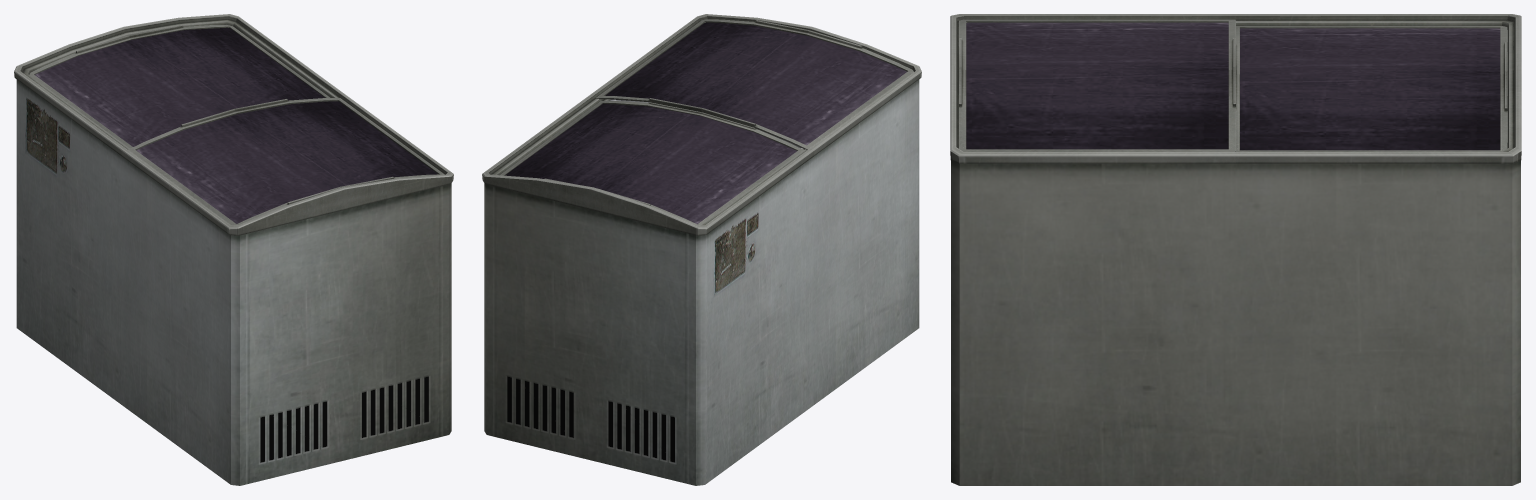
3 views of the same model, side by side, from view 1: azimuth 30°, elevation 25°; view 2: azimuth 150°, elevation 25°; view 3: azimuth 270°, elevation 25° (orthographic). The views are drawn at different scales.
Parts seen in each view (by area): view 1: S_FreezerB_0_001, S_FreezerBGlas01_0_001, S_FreezerBGlas02_0_001, S_FreezerBSlid01_0_001, S_FreezerBSlid02_0_001; view 2: S_FreezerB_0_001, S_FreezerBGlas01_0_001, S_FreezerBGlas02_0_001, S_FreezerBSlid01_0_001, S_FreezerBSlid02_0_001; view 3: S_FreezerB_0_001, S_FreezerBGlas01_0_001, S_FreezerBGlas02_0_001, S_FreezerBSlid01_0_001, S_FreezerBSlid02_0_001.
Part boxes in pixels (x1=…): S_FreezerB_0_001: x1=14, y1=14, x2=453, y2=485; S_FreezerBGlas01_0_001: x1=136, y1=101, x2=437, y2=223; S_FreezerBGlas02_0_001: x1=35, y1=27, x2=324, y2=146; S_FreezerBSlid01_0_001: x1=128, y1=98, x2=444, y2=225; S_FreezerBSlid02_0_001: x1=29, y1=25, x2=330, y2=148; S_FreezerB_0_001: x1=482, y1=14, x2=921, y2=485; S_FreezerBGlas01_0_001: x1=605, y1=22, x2=906, y2=145; S_FreezerBGlas02_0_001: x1=505, y1=103, x2=796, y2=224; S_FreezerBSlid01_0_001: x1=596, y1=19, x2=913, y2=149; S_FreezerBSlid02_0_001: x1=500, y1=101, x2=803, y2=224; S_FreezerB_0_001: x1=950, y1=14, x2=1521, y2=485; S_FreezerBGlas01_0_001: x1=966, y1=22, x2=1228, y2=149; S_FreezerBGlas02_0_001: x1=1240, y1=28, x2=1500, y2=150; S_FreezerBSlid01_0_001: x1=958, y1=19, x2=1236, y2=151; S_FreezerBSlid02_0_001: x1=1236, y1=26, x2=1507, y2=151.
Bounding box in the file's own units: 34.7 × 40.09 × 59.21.
Materials: 2 (2 with a texture image).
